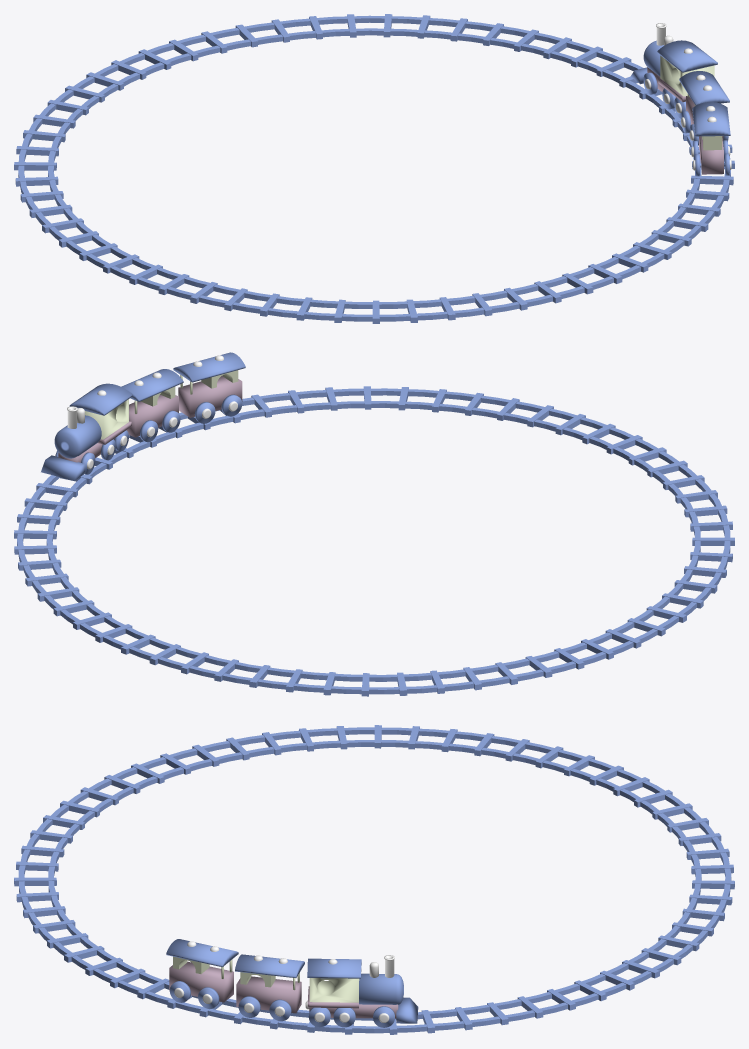
The model's file is choochoo02.glb.
The picture shows the model from 3 angles, top to bottom: view 1: azimuth 30°, elevation 25°; view 2: azimuth 150°, elevation 25°; view 3: azimuth 270°, elevation 25°; orthographic projection.
Parts seen in each view (by area): view 1: Track visual, Head; view 2: Track visual, Head; view 3: Track visual, Head.
Boxes of the visible parts, x1,y1,x2,y2 form: Track visual: [14, 14, 734, 323]; Head: [630, 23, 731, 176]; Track visual: [14, 386, 734, 696]; Head: [41, 352, 245, 480]; Track visual: [14, 725, 734, 1034]; Head: [166, 939, 418, 1027].
Bounding box in the file's own units: 65.55 × 6.93 × 65.57.
